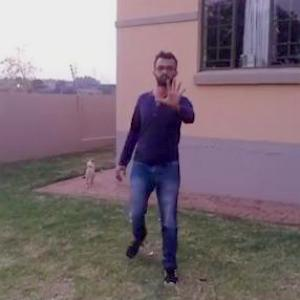follow_hand: (154, 73, 194, 112)
